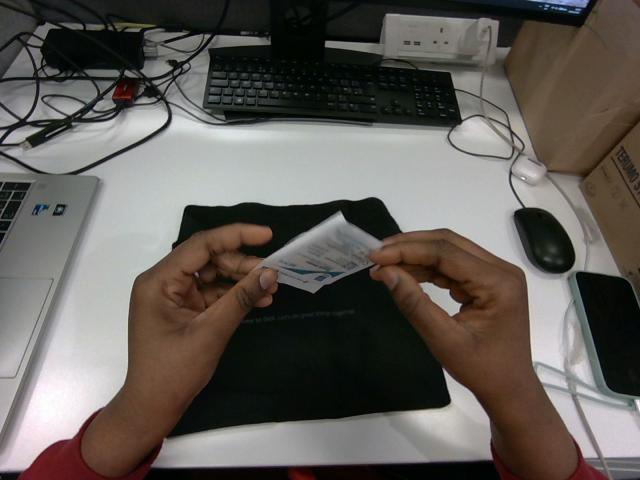gauze: (256, 212, 382, 292)
